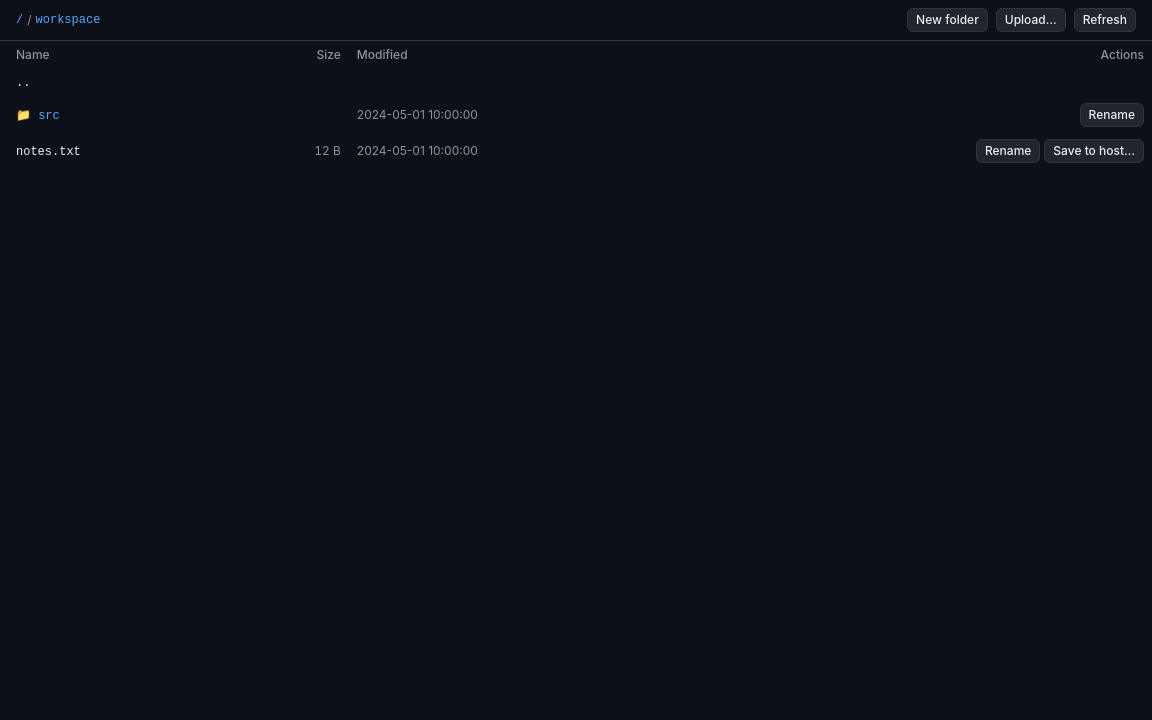
Test: FilesTab viewer › shows a text file's contents in a dialog
Double-click the text "notes.txt": (48, 152) [16,144,81,158]
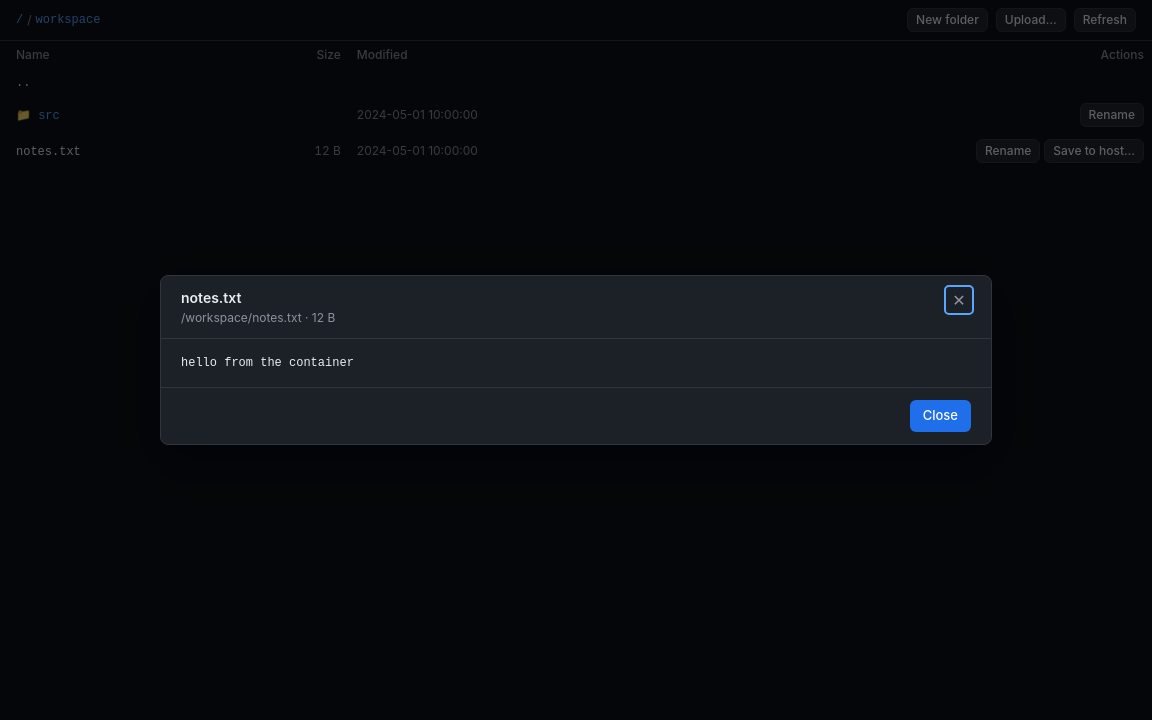
Check: the dialog is shown, box [160,275,992,445]
Check: the text "hello from the container" is shown, box [181,356,354,370]
